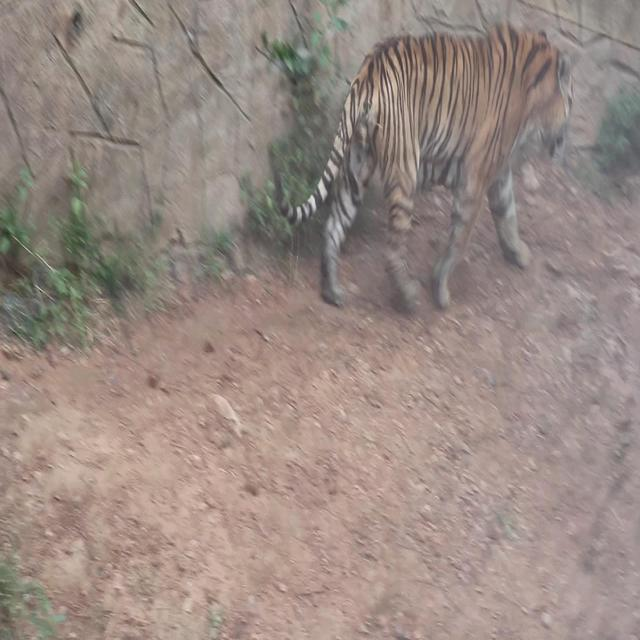tiger: (276, 19, 579, 314)
